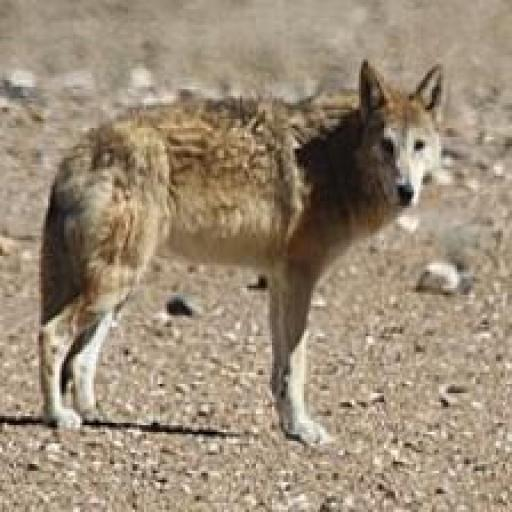wolf: (25, 57, 462, 454)
